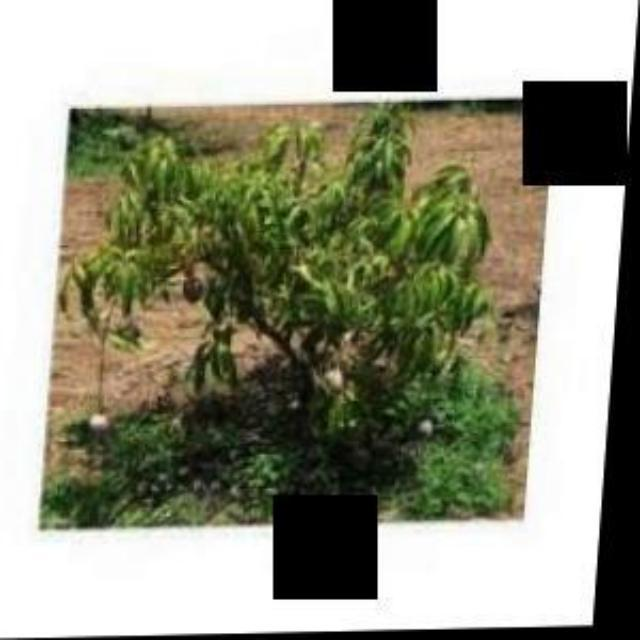tree: (56, 102, 506, 484)
